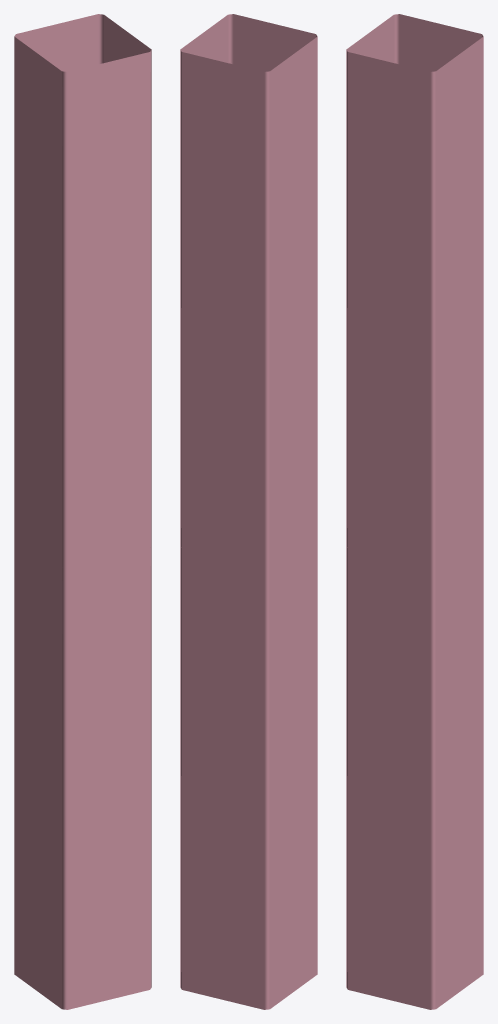
Rendered from IntPillar.fbx.
The picture shows the model from 3 angles, left to right: view 1: azimuth 30°, elevation 25°; view 2: azimuth 150°, elevation 25°; view 3: azimuth 330°, elevation 25°; orthographic projection.
Parts seen in each view (by area): view 1: IntPillar; view 2: IntPillar; view 3: IntPillar.
Boxes of the visible parts, x1,y1,x2,y2 form: IntPillar: (14, 14, 151, 1009); IntPillar: (180, 14, 317, 1009); IntPillar: (346, 14, 483, 1009).
Bounding box in the file's own units: 40 × 400 × 40.
